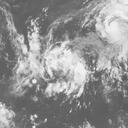cyclone: (45, 48, 88, 93), (96, 3, 127, 44)
